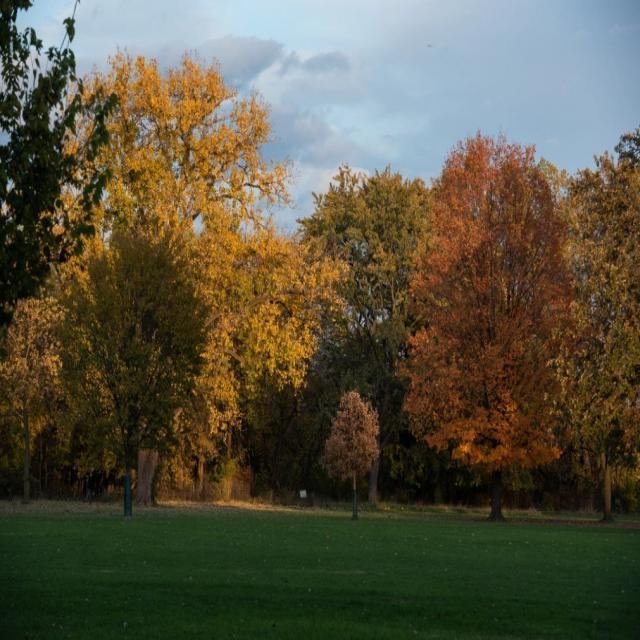Tree: (30, 44, 295, 508), (414, 132, 624, 509), (298, 163, 420, 370), (328, 384, 376, 524)
